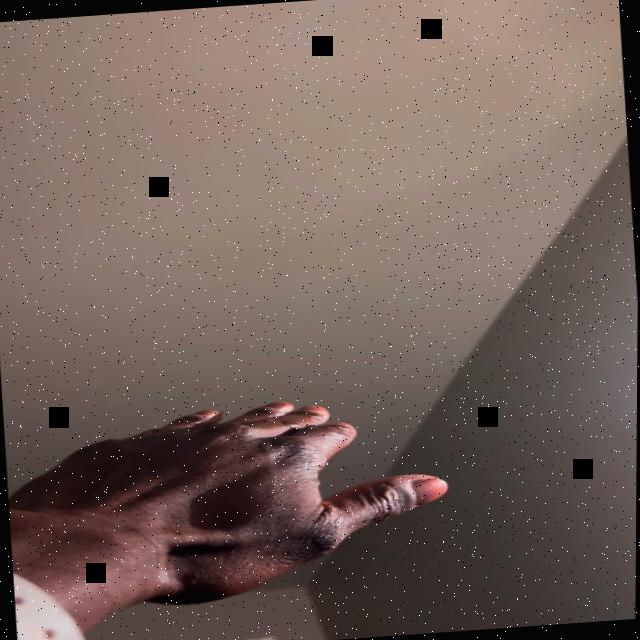Paper: (3, 388, 465, 618)
